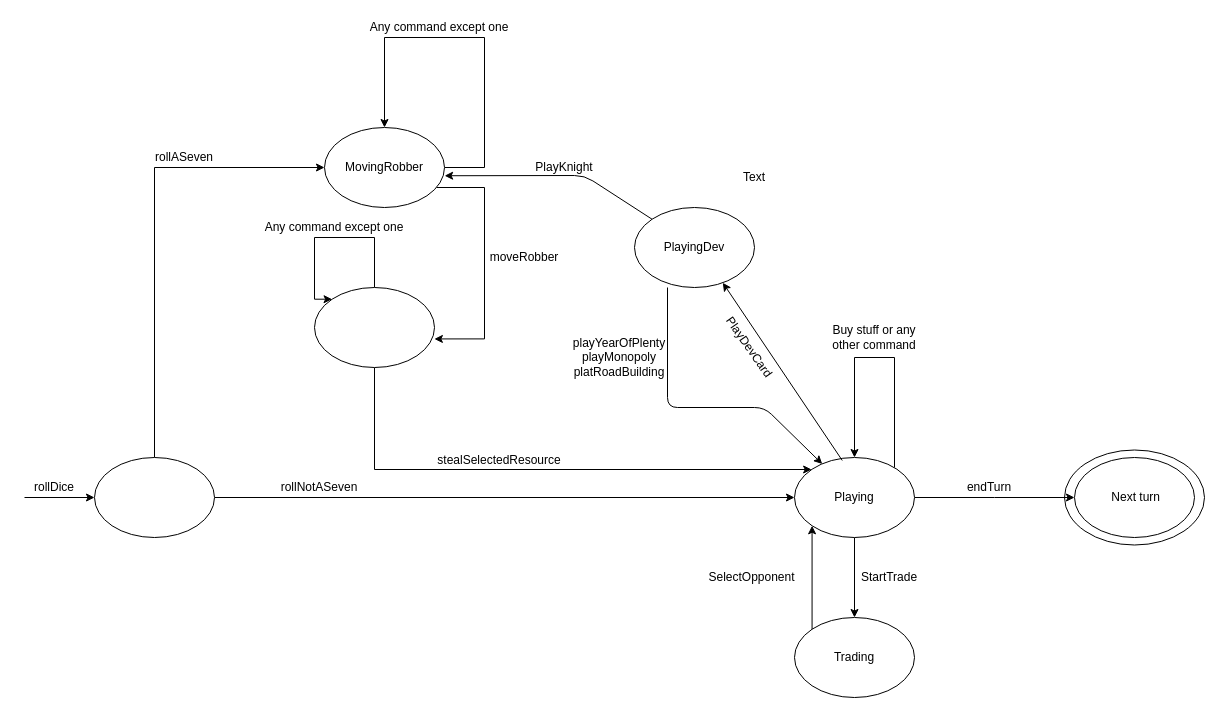
This 1222x715 diagram has some shape labels left out. Here are the shapes that lost their labels. From the top down, the box of each, then its label:
(314, 286, 434, 368): StealingAResource FromAPlayer
(94, 456, 214, 538): Start (return resources)
